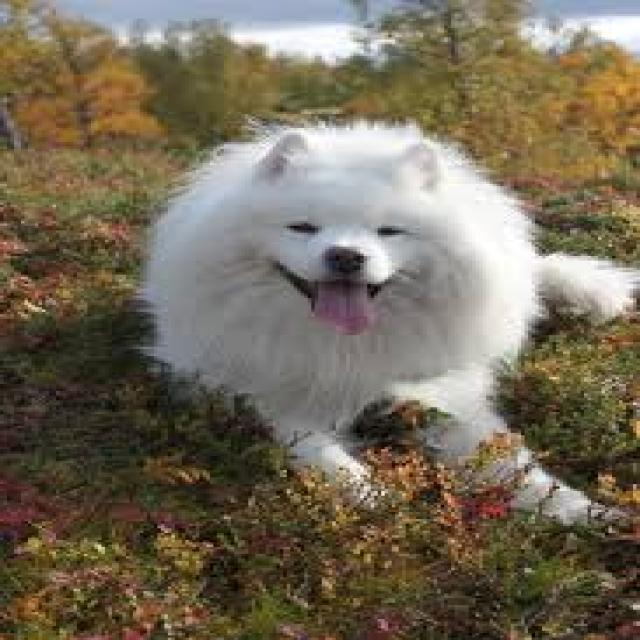dogs: (128, 116, 640, 524)
